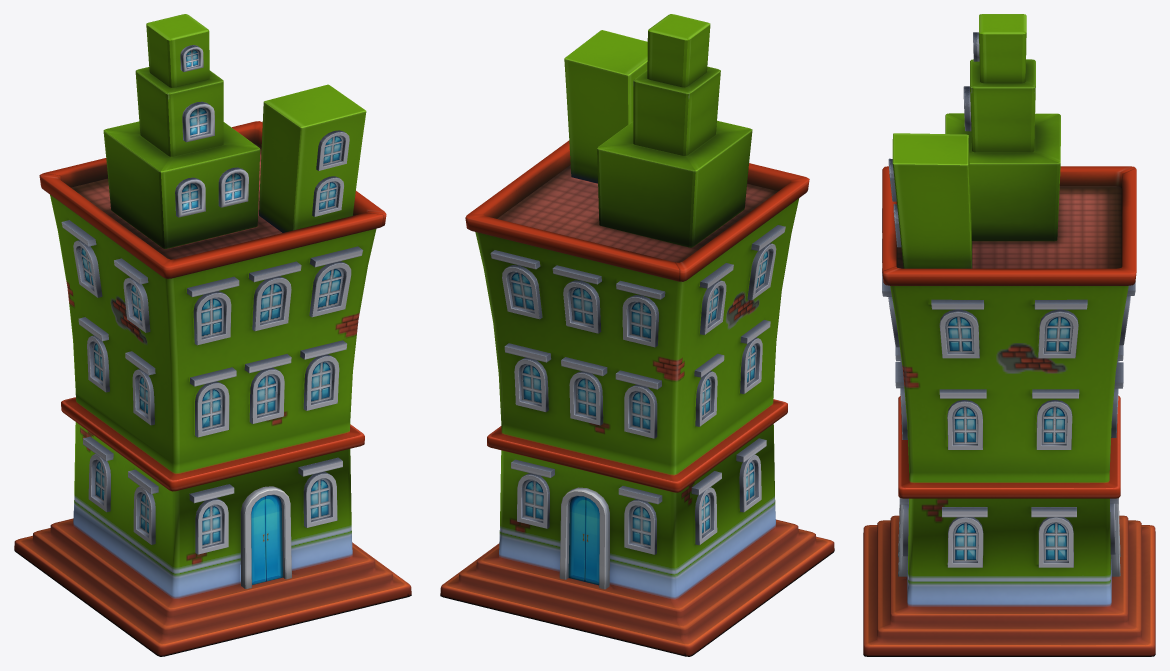
The model's file is NoAnim_Apartment_02.FBX.
The picture shows the model from 3 angles, left to right: view 1: azimuth 30°, elevation 25°; view 2: azimuth 150°, elevation 25°; view 3: azimuth 270°, elevation 25°; orthographic projection.
Visible parts, largest first — view 1: NoAnim_Apartment_02; view 2: NoAnim_Apartment_02; view 3: NoAnim_Apartment_02.
Boxes of the visible parts, <box> form: NoAnim_Apartment_02: <box>14,14,411,656</box>; NoAnim_Apartment_02: <box>440,14,834,656</box>; NoAnim_Apartment_02: <box>863,14,1155,656</box>.
Bounding box in the file's own units: 74.75 × 157 × 75.29.
